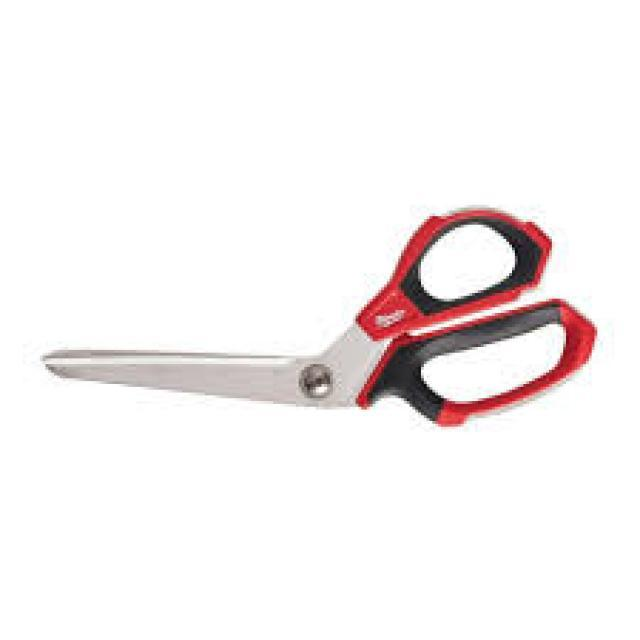scissor: (39, 204, 600, 428)
